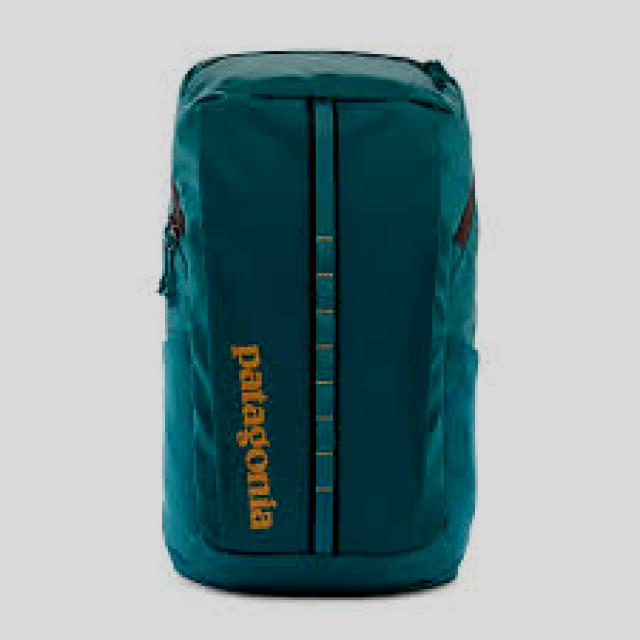backpack: (157, 50, 479, 596)
